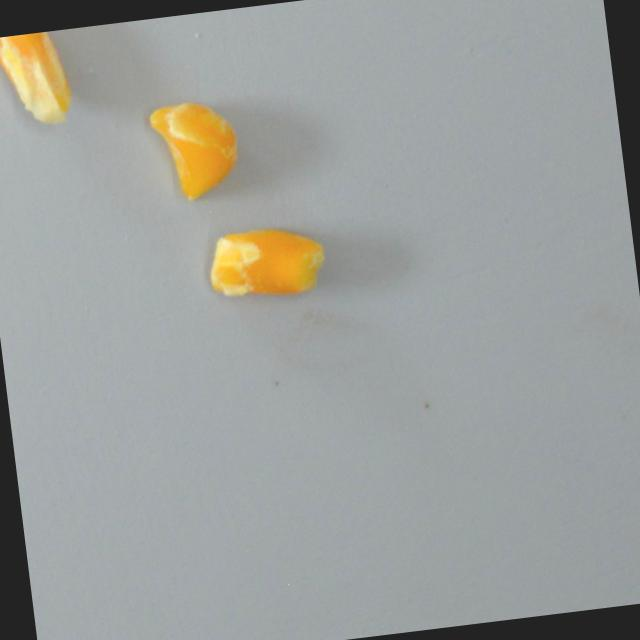pelicula: (216, 193, 317, 328), (142, 92, 254, 196), (0, 25, 102, 102)
